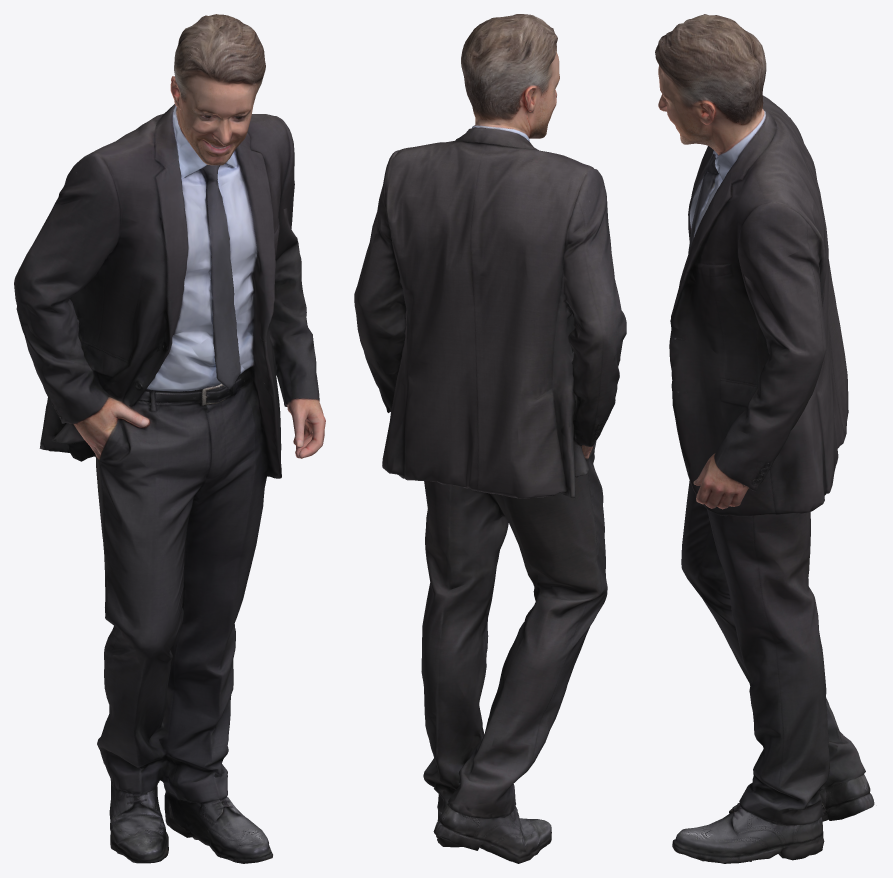
Rendered from rp_dennis_posed_004_30k.obj.
The picture shows the model from 3 angles, left to right: view 1: azimuth 30°, elevation 25°; view 2: azimuth 150°, elevation 25°; view 3: azimuth 270°, elevation 25°; orthographic projection. The views are drawn at different scales.
Parts seen in each view (by area): view 1: rp_dennis_posed_004_30k; view 2: rp_dennis_posed_004_30k; view 3: rp_dennis_posed_004_30k.
Part boxes in pixels (box(x1,y1,x2,y2)): rp_dennis_posed_004_30k: box(14, 14, 325, 863); rp_dennis_posed_004_30k: box(354, 14, 626, 863); rp_dennis_posed_004_30k: box(655, 14, 874, 863).
Bounding box in the file's own units: 0.6416 × 1.87 × 0.4589.
1 material, 1 textured.
